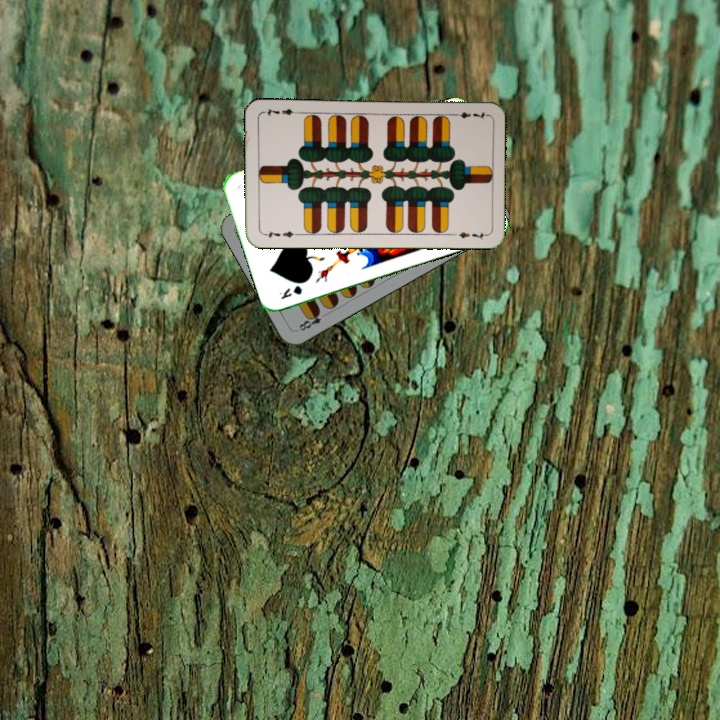E7: (448, 108, 489, 122), (259, 227, 300, 240)
E8: (293, 306, 331, 334)
GK: (275, 281, 306, 302)
